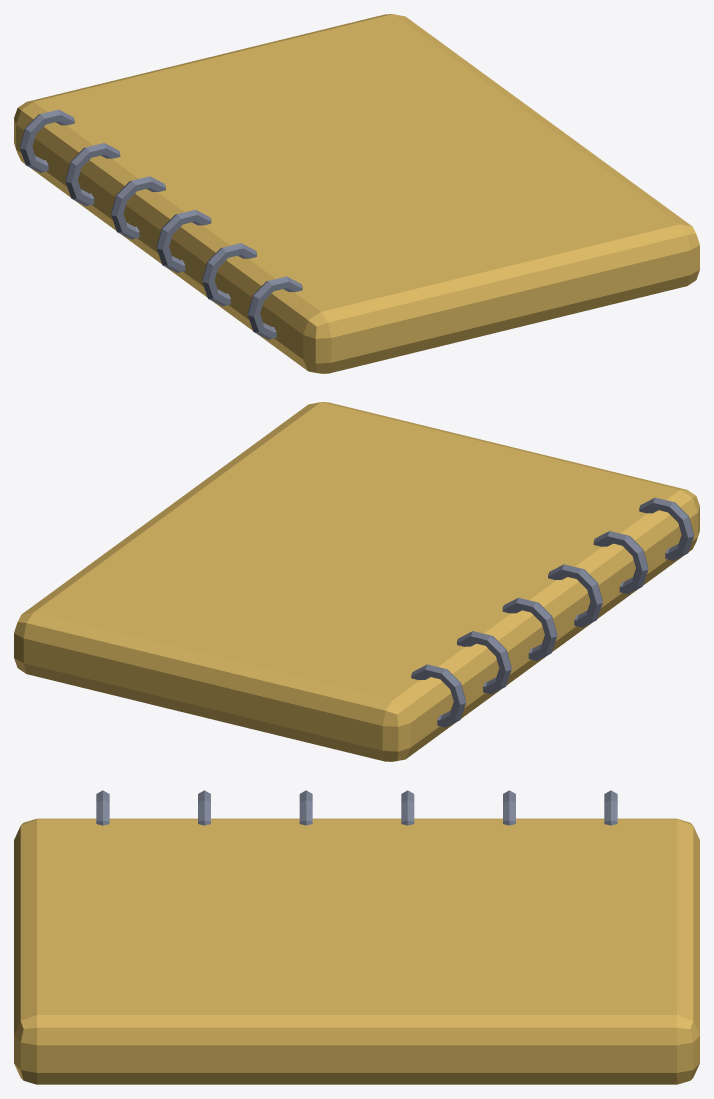
The model's file is notebook.glb.
The picture shows the model from 3 angles, top to bottom: view 1: azimuth 30°, elevation 25°; view 2: azimuth 150°, elevation 25°; view 3: azimuth 270°, elevation 25°; orthographic projection. The views are drawn at different scales.
Visible parts, largest first — view 1: notebook_Mesh; view 2: notebook_Mesh; view 3: notebook_Mesh.
Boxes of the visible parts, x1,y1,x2,y2 form: notebook_Mesh: [14, 14, 699, 373]; notebook_Mesh: [14, 402, 699, 761]; notebook_Mesh: [14, 790, 699, 1084].
Size of the model in its own units: 0.213 by 0.0373 by 0.27.
